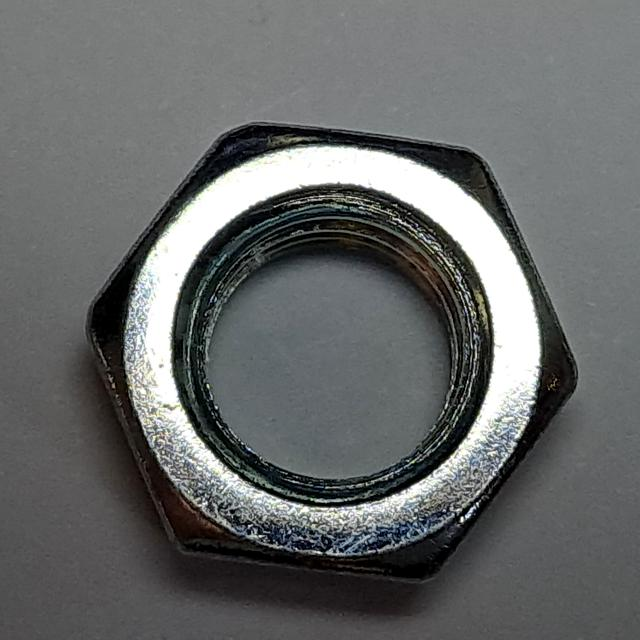Excellent: (66, 102, 592, 598)
